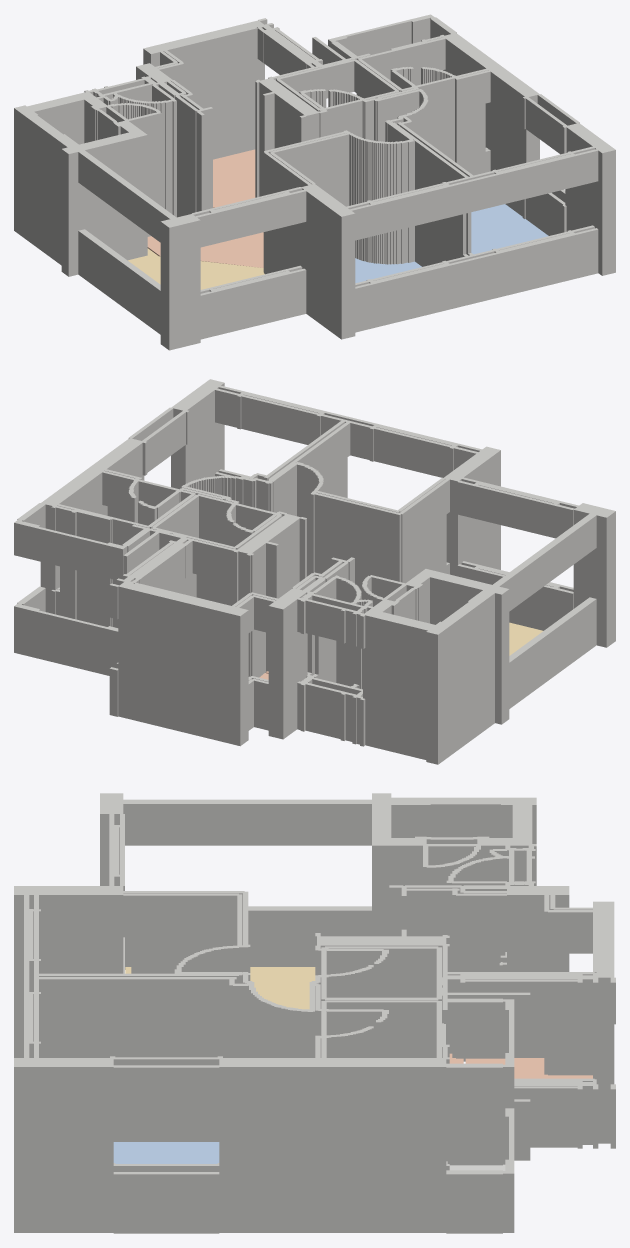
3 views of the same model, one above another, from view 1: azimuth 30°, elevation 25°; view 2: azimuth 150°, elevation 25°; view 3: azimuth 270°, elevation 25° (orthographic). The views are drawn at different scales.
Parts seen in each view (by area): view 1: walls, room:bedroom:2, room:kitchen:8, room:kitchen:1, room:living:7, room:bedroom:4; view 2: walls, room:living:7; view 3: walls, room:bedroom:2, room:living:7, room:kitchen:8.
Boxes of the visible parts, <box> form: walls: <box>14,14,615,350</box>; room:bedroom:2: <box>471,204,548,254</box>; room:kitchen:8: <box>213,149,255,207</box>; room:kitchen:1: <box>147,207,263,267</box>; room:living:7: <box>128,248,264,289</box>; room:bedroom:4: <box>355,258,421,283</box>; walls: <box>14,379,615,764</box>; room:living:7: <box>509,622,542,655</box>; walls: <box>14,793,615,1233</box>; room:bedroom:2: <box>113,1142,219,1163</box>; room:living:7: <box>125,967,315,1009</box>; room:kitchen:8: <box>465,1058,592,1078</box>.
Bounding box in the file's own units: 9.93 × 2.8 × 9.21.
